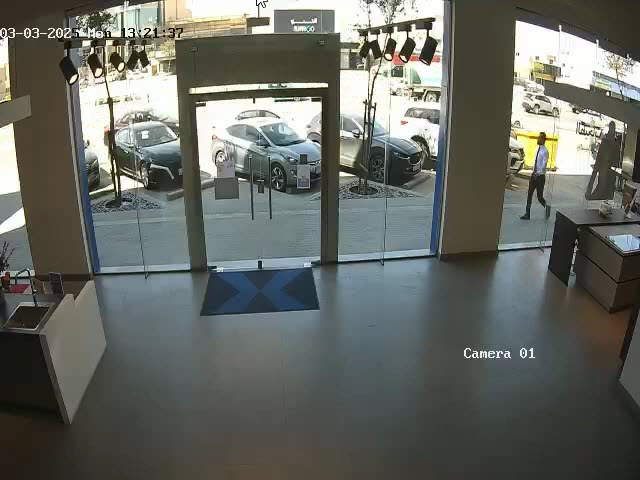employee: (519, 132, 549, 220)
